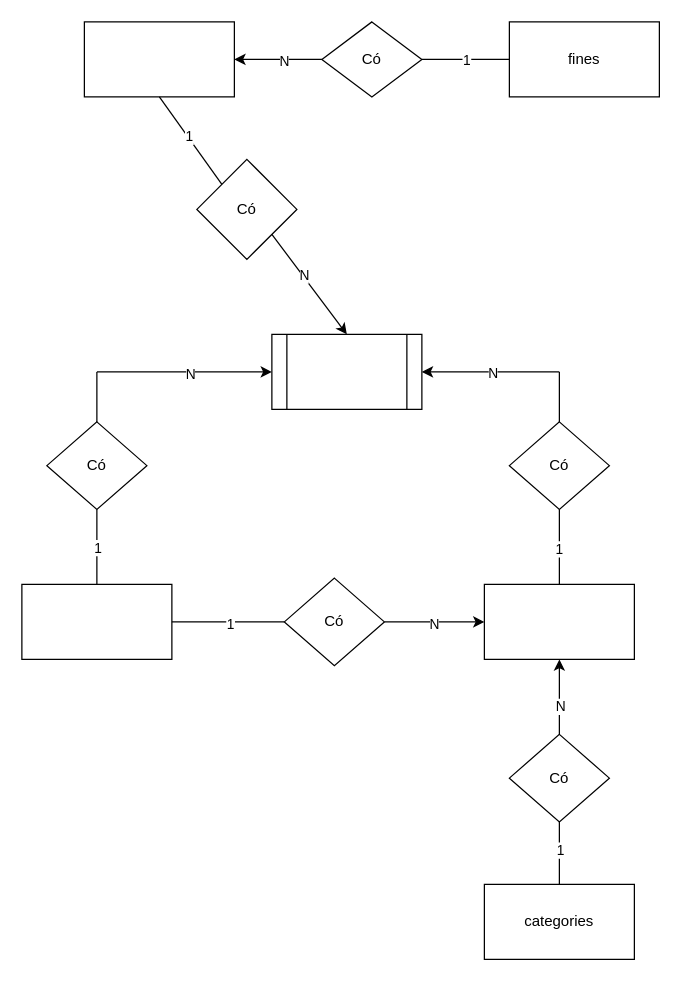
Some shapes in this 681 by 981 pixel diagram are drawn without their labels. Here are the shapes that lost their labels. From the top down, the centre of each, then its label:
At pixel 158 59: "returning".
At pixel 346 371: "borrowings".
At pixel 96 621: "readers".
At pixel 558 621: "books".
